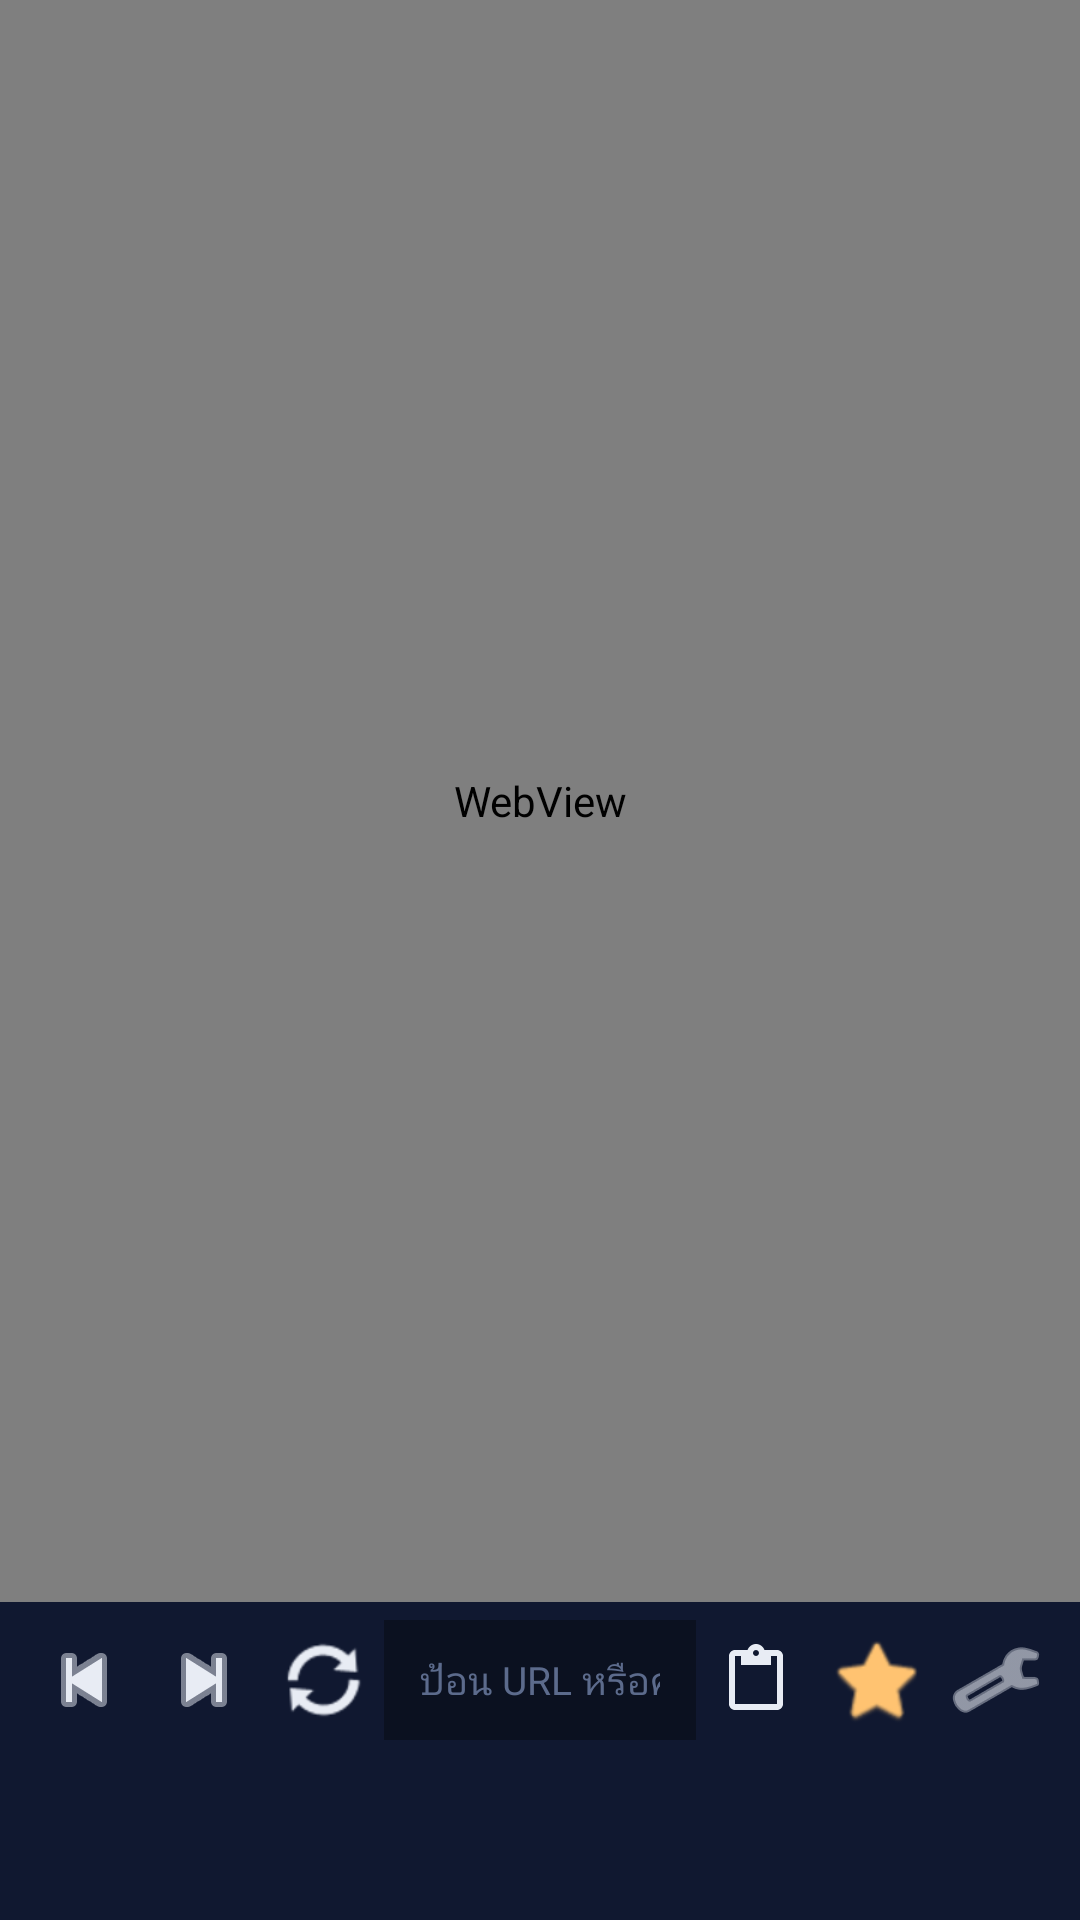

Icons on this 1080*1920 Android screen, each with its box as (x1, y1, x2, y2):
ย้อนกลับ: (61, 1653, 107, 1707)
รีโหลด: (287, 1644, 361, 1716)
เปิด URL จากคลิปบอร์ด: (729, 1644, 783, 1710)
เว็บโปรด: (837, 1642, 917, 1720)
ไปหน้าถัดไป: (181, 1653, 227, 1707)
